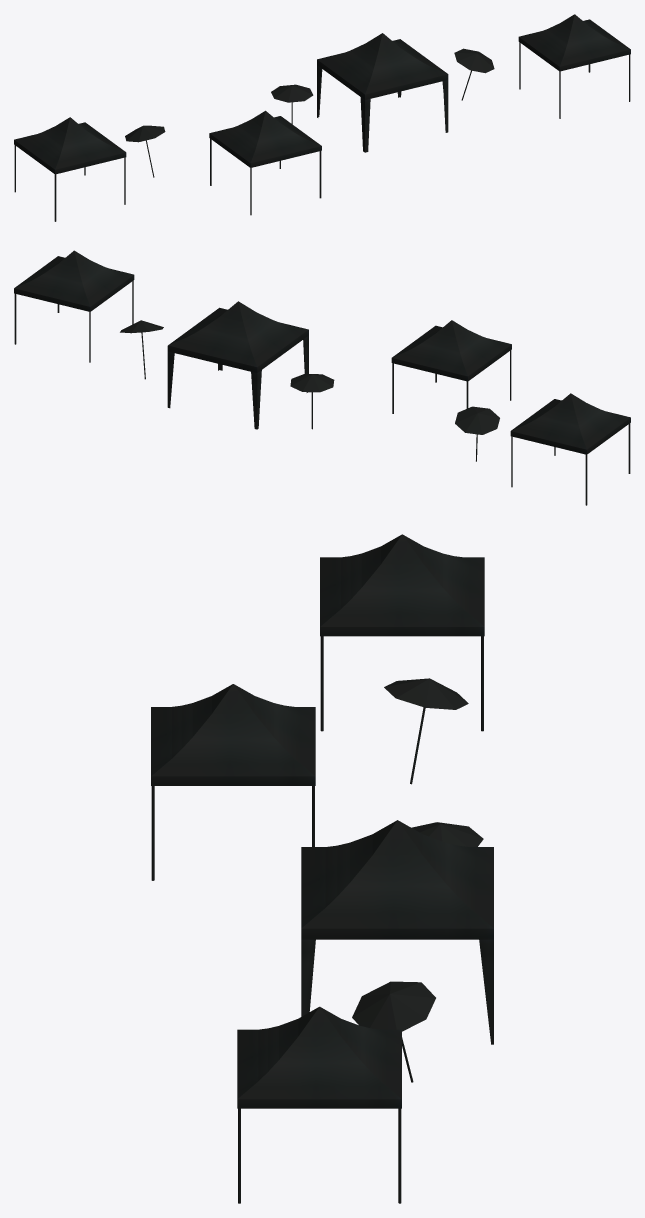
Rendered from Tents-Four.obj.
3 renders of one model, top to bottom at view 1: azimuth 30°, elevation 25°; view 2: azimuth 150°, elevation 25°; view 3: azimuth 270°, elevation 25°, orthographic. The views are drawn at different scales.
Parts seen in each view (by area): view 1: StallUmbrellas_Cylinder; view 2: StallUmbrellas_Cylinder; view 3: StallUmbrellas_Cylinder.
Boxes of the visible parts, <box> form: StallUmbrellas_Cylinder: <box>14,14,630,221</box>; StallUmbrellas_Cylinder: <box>14,250,630,505</box>; StallUmbrellas_Cylinder: <box>151,534,493,1203</box>.
Size of the model in its own units: 31.95 by 5.06 by 8.54.
